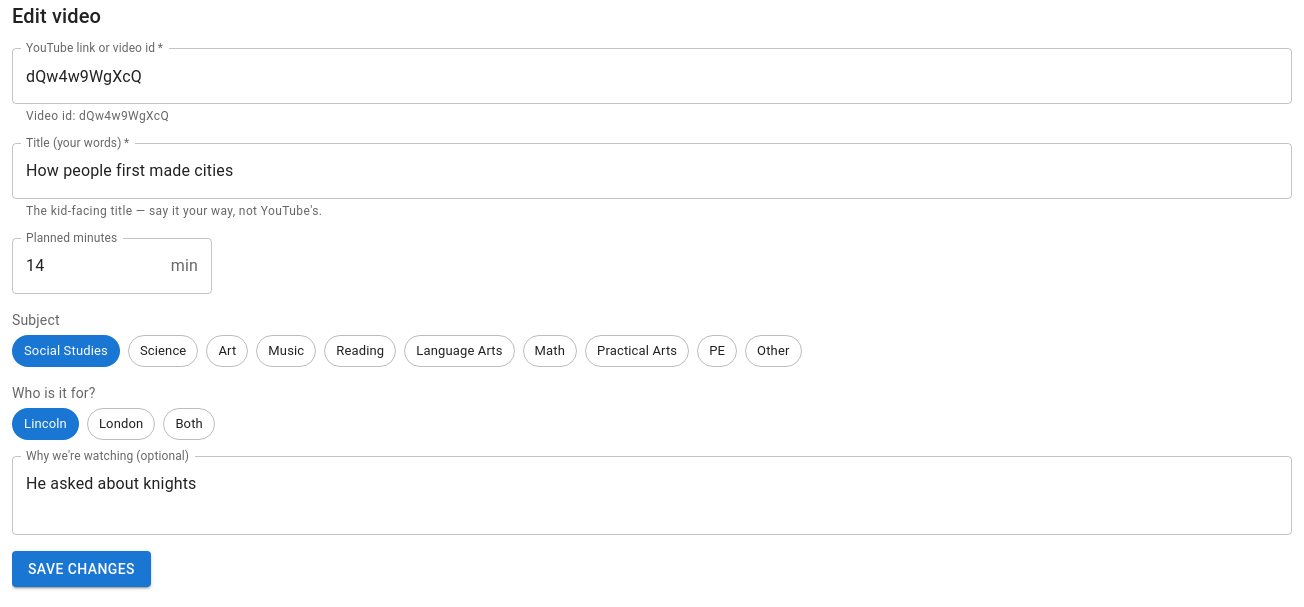
Test: WatchVetInForm — edit mode (FEAT-129) › re-validates minutes on edit — a value that rounds to 0 cannot be saved
Replace the text in the number field labelled "Planned minutes" with "0.4" at (87, 266), box [12, 238, 163, 294]
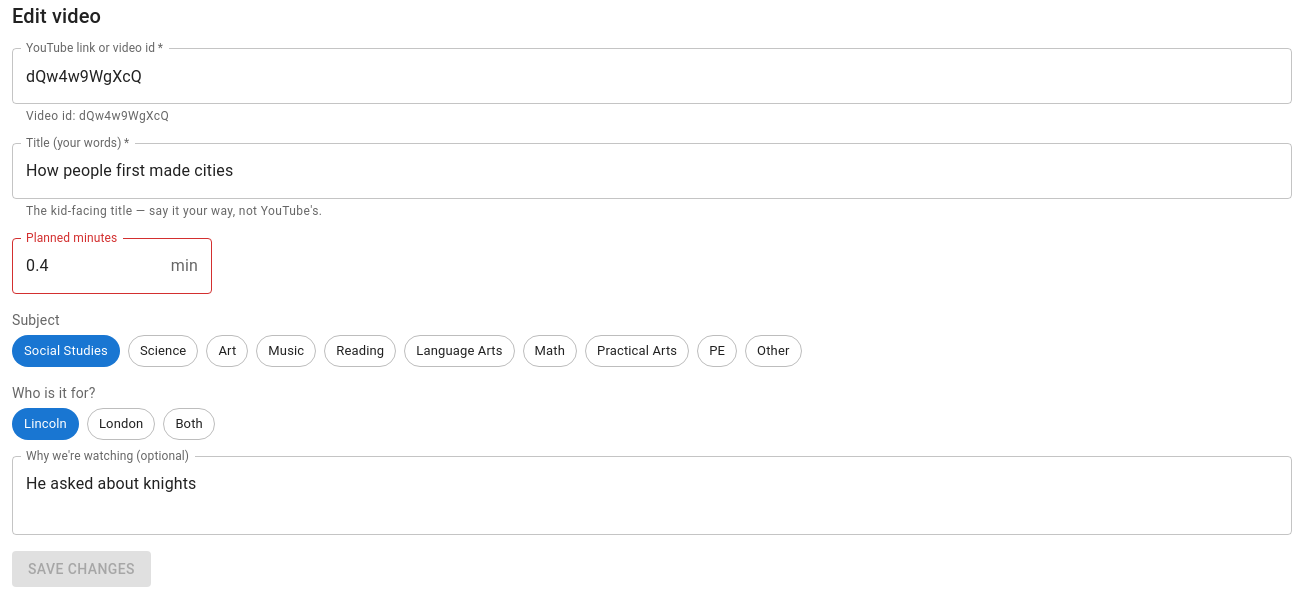
expect the button "Save changes" is disabled: met, box [12, 551, 151, 587]
